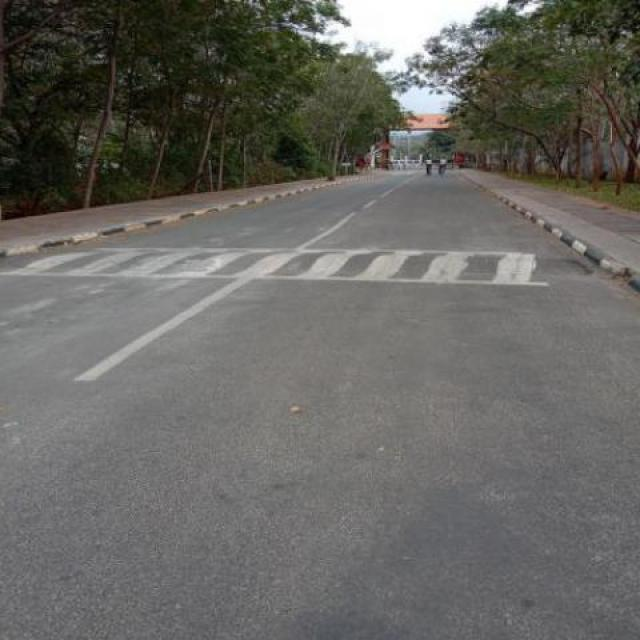Speed Bump: (1, 248, 600, 282)
